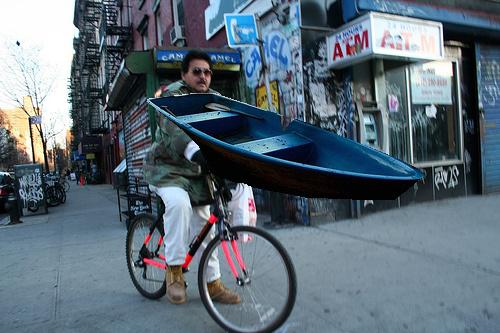tampered: (147, 94, 424, 200)
